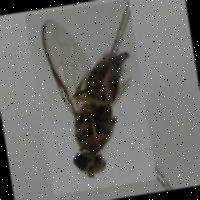Oriental-fruit-fly: (25, 0, 157, 194)
